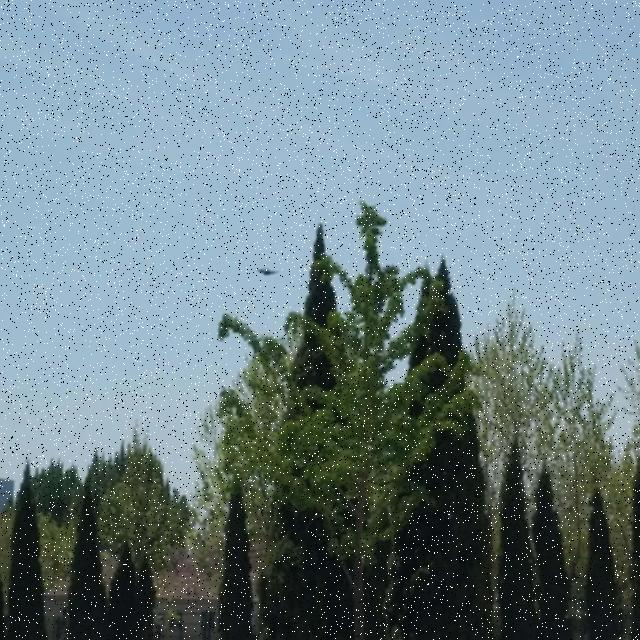UAV: (256, 267, 279, 276)
